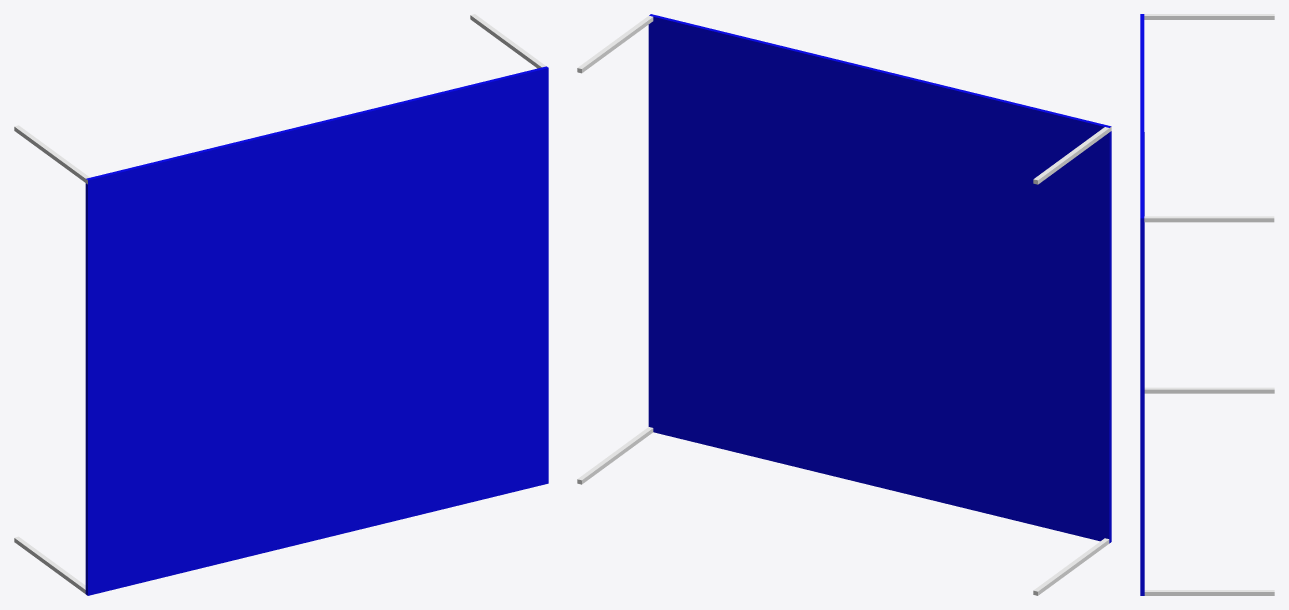
File: pallet.glb
3 renders of one model, left to right at view 1: azimuth 30°, elevation 25°; view 2: azimuth 150°, elevation 25°; view 3: azimuth 270°, elevation 25°, orthographic. The views are drawn at different scales.
Visible parts, largest first — view 1: mesh3d_005, mesh3ds in; view 2: mesh3d_005, mesh3ds in, mesh3d_004, mesh3d_003, mesh3d_002; view 3: mesh3d_005, mesh3d_004, mesh3d_002, mesh3ds in, mesh3d_003.
Boxes of the visible parts, left/top/right/bottom form: mesh3d_005: left=85, top=66, right=548, bottom=595; mesh3ds in: left=14, top=125, right=89, bottom=184; mesh3d_005: left=648, top=14, right=1111, bottom=543; mesh3ds in: left=1033, top=127, right=1111, bottom=184; mesh3d_004: left=1033, top=538, right=1109, bottom=595; mesh3d_003: left=577, top=427, right=653, bottom=484; mesh3d_002: left=577, top=15, right=653, bottom=73; mesh3d_005: left=1140, top=14, right=1144, bottom=595; mesh3d_004: left=1144, top=387, right=1274, bottom=393; mesh3d_002: left=1144, top=216, right=1274, bottom=222; mesh3ds in: left=1144, top=14, right=1274, bottom=19; mesh3d_003: left=1144, top=590, right=1274, bottom=595.
Bounding box in the file's own units: 12.59 × 10.85 × 3.5.
